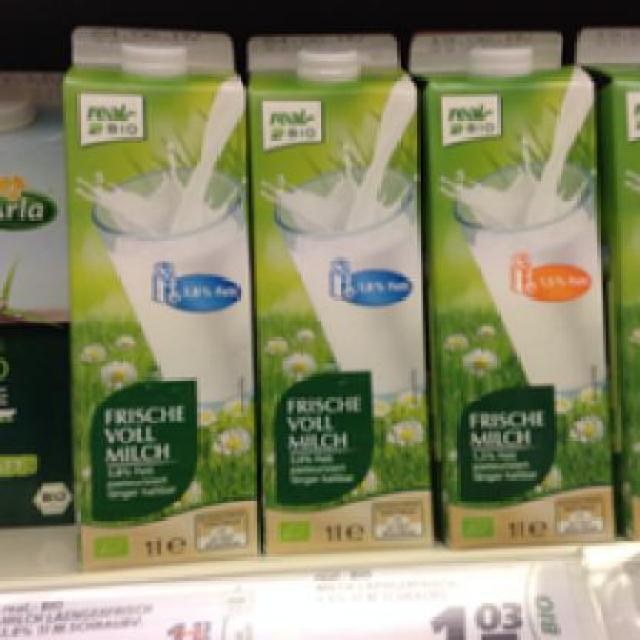Milk: (412, 20, 628, 546), (57, 16, 260, 572), (246, 34, 440, 552)
